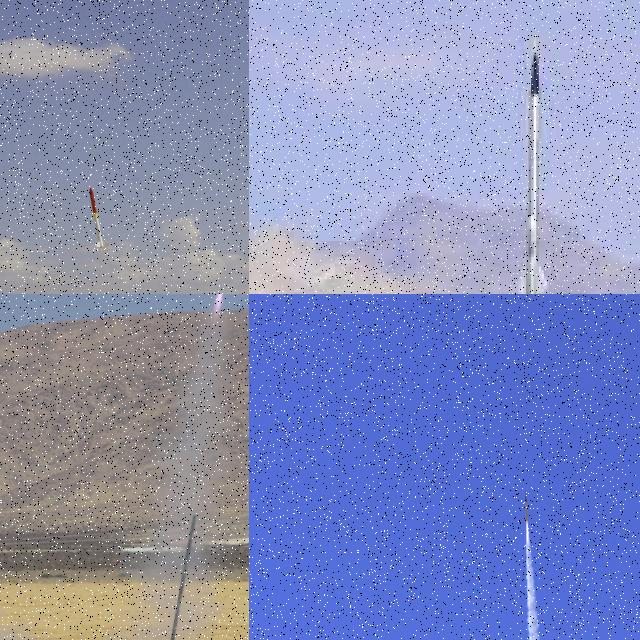Rocket: (514, 38, 551, 294), (89, 188, 110, 248), (524, 490, 529, 522)
